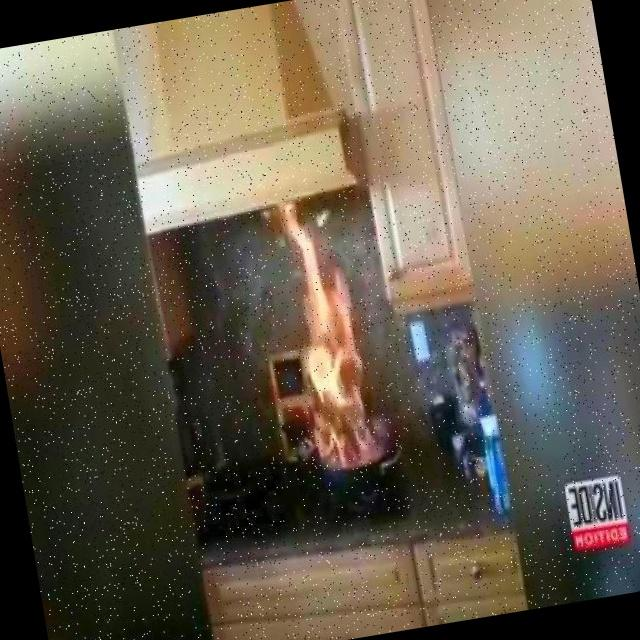fire: (234, 172, 415, 488)
